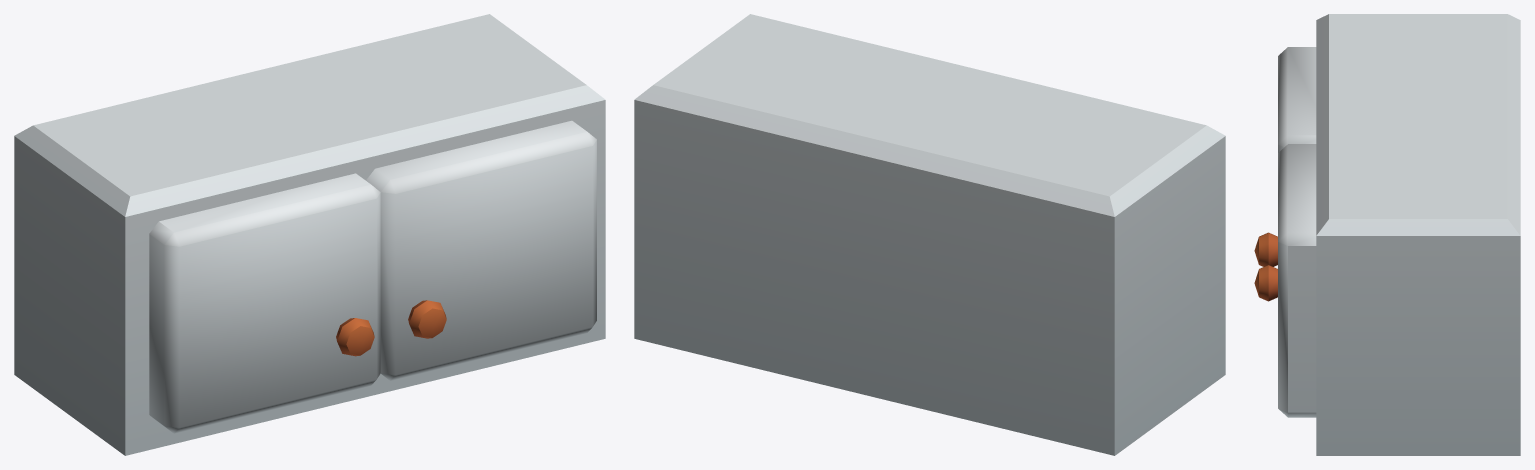
File: Kitchen Cabinet-cxxC9yz390.glb
The picture shows the model from 3 angles, left to right: view 1: azimuth 30°, elevation 25°; view 2: azimuth 150°, elevation 25°; view 3: azimuth 270°, elevation 25°; orthographic projection. The views are drawn at different scales.
Parts seen in each view (by area): view 1: kitchencabinet_half; view 2: kitchencabinet_half; view 3: kitchencabinet_half.
Part boxes in pixels (<box>): kitchencabinet_half: <box>14,14,605,455</box>; kitchencabinet_half: <box>634,14,1225,455</box>; kitchencabinet_half: <box>1254,14,1520,455</box>.
Size of the model in its own units: 2 by 1 by 1.04.
Materials: 1 (1 with a texture image).
